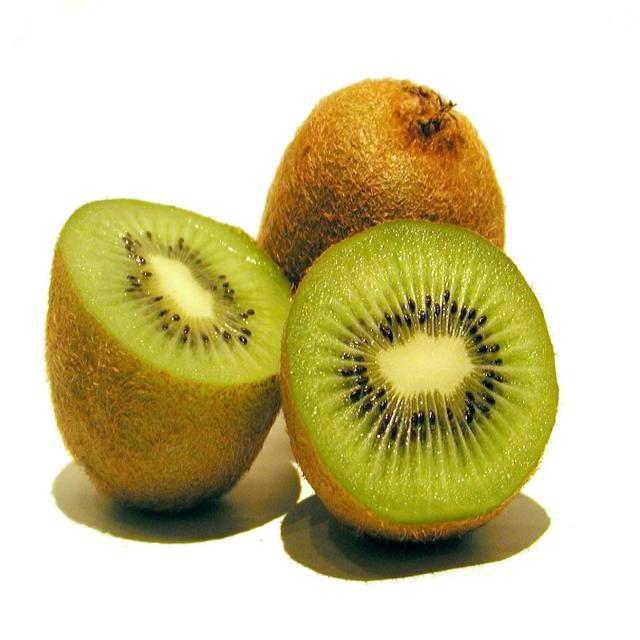kiwi: (34, 193, 330, 512), (277, 222, 565, 544), (258, 78, 532, 316)
